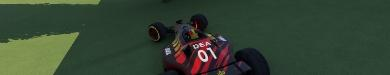Car: (147, 15, 270, 74)
grass: (0, 0, 389, 74)
